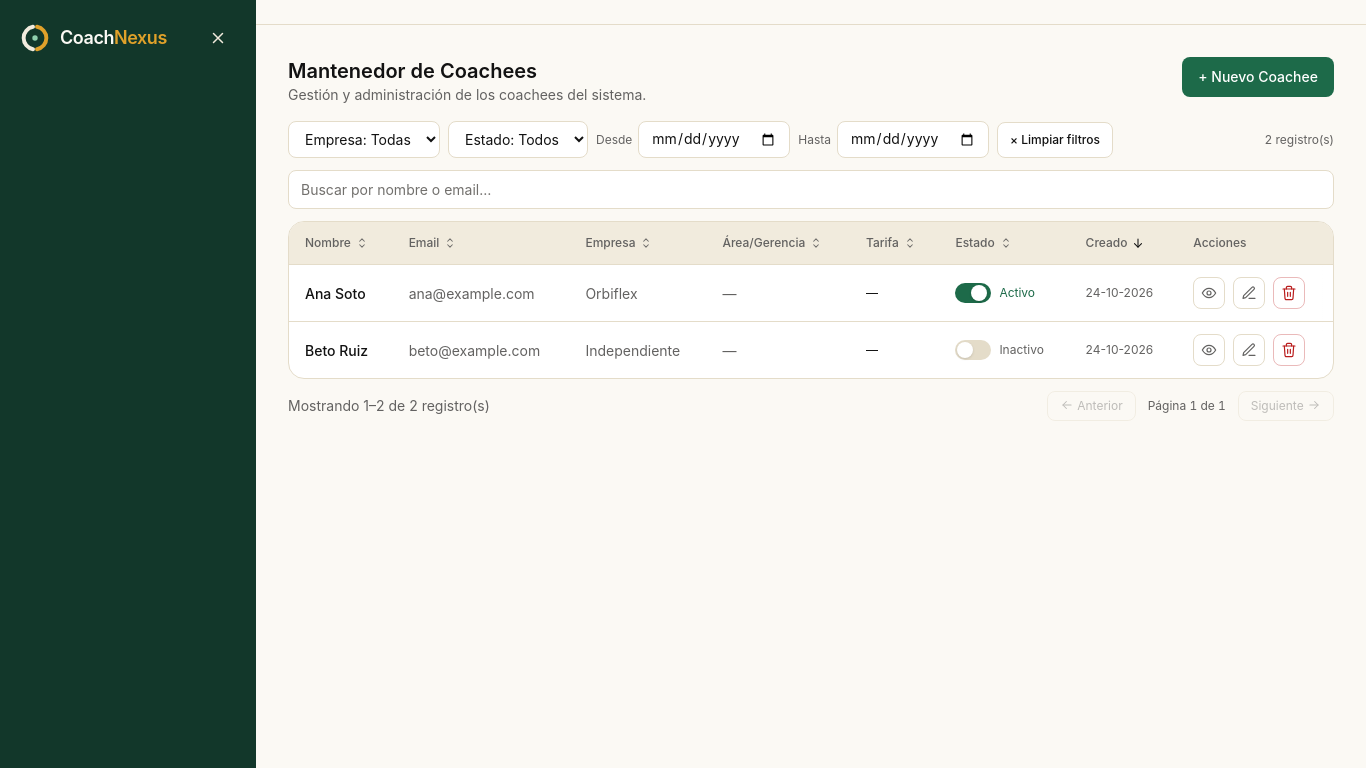
Test: CoacheesView › filters by search text
Type "Beto" into the search field with placeholder "Buscar por nombre o email…". click: (811, 190)
box: x1=288 y1=170 x2=1334 y2=209
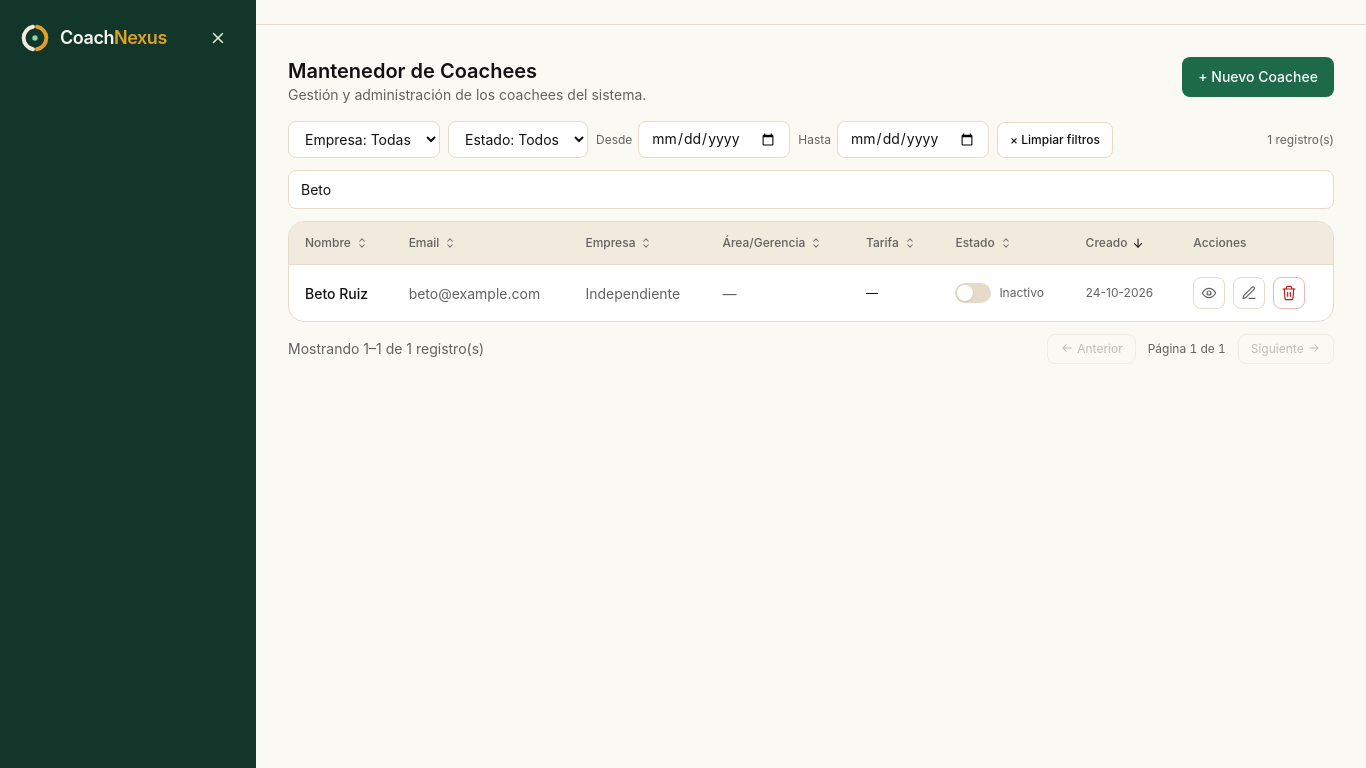
Expected: the text "Beto Ruiz" is shown, x1=289 y1=264 x2=393 y2=321
Now the text "Ana Soto" is gone
